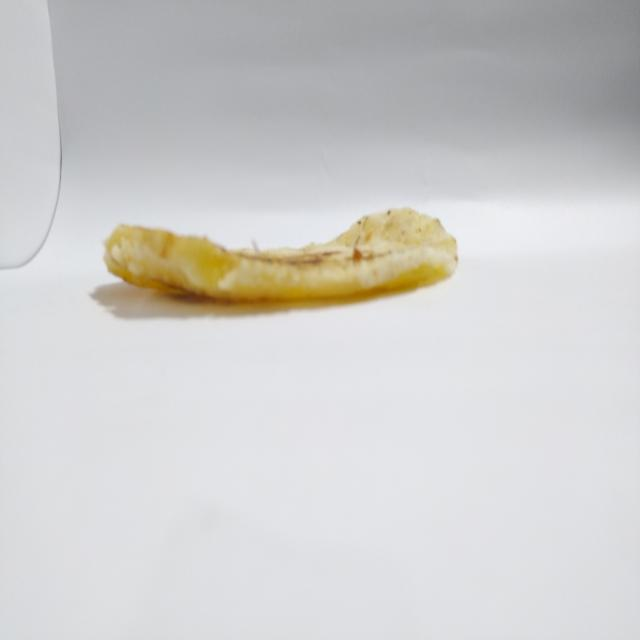Food: (93, 173, 462, 318)
